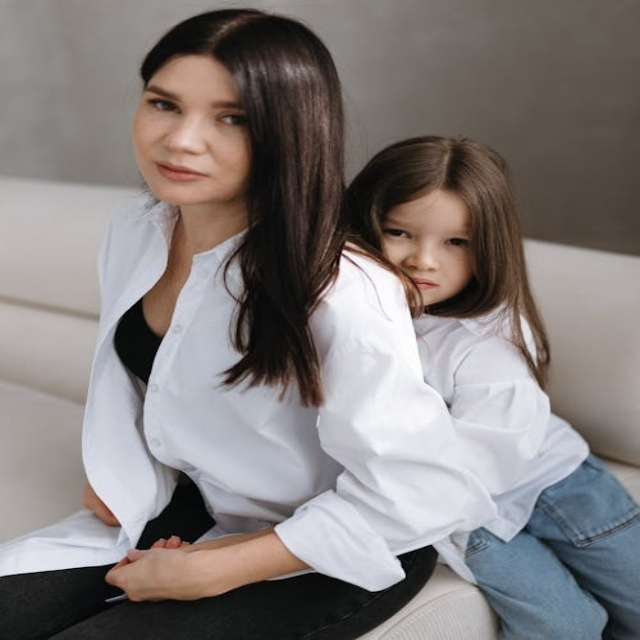Sin_gafas: (137, 80, 238, 127), (385, 213, 468, 254)
Sin_mascara: (147, 154, 216, 202), (406, 272, 444, 299)
